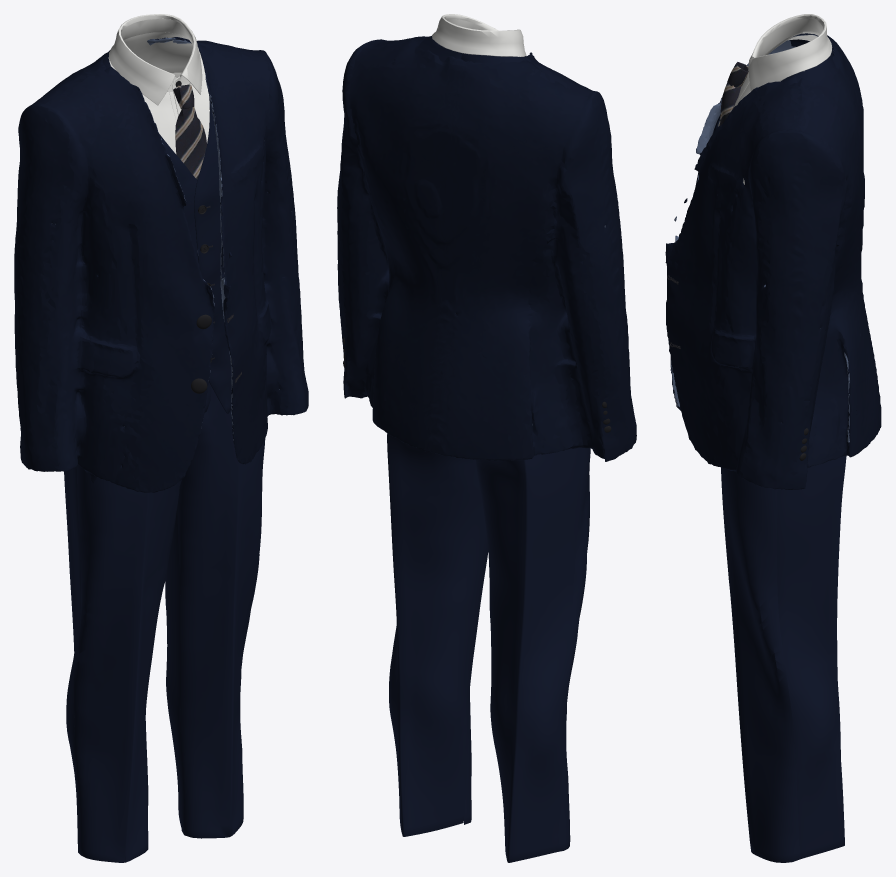
File: MW_Tailleur_suit_v5_REBUILD_BASE.glb
3 renders of one model, left to right at view 1: azimuth 30°, elevation 25°; view 2: azimuth 150°, elevation 25°; view 3: azimuth 270°, elevation 25°, orthographic. The views are drawn at different scales.
Parts seen in each view (by area): view 1: Jacket, Trousers, Shirt, Waistcoat, Tie, Trim; view 2: Jacket, Trousers, Shirt, Waistcoat; view 3: Jacket, Trousers, Shirt, Tie, Waistcoat.
Boxes of the visible parts, x1,y1,x2,y2 form: Jacket: (14,37,308,492); Trousers: (64,382,265,862); Shirt: (108,14,209,154); Waistcoat: (97,41,231,413); Tie: (173,84,206,179); Trim: (20,81,211,428); Jacket: (337,36,636,461); Trousers: (387,433,590,862); Shirt: (432,14,526,56); Waistcoat: (418,36,531,315); Jacket: (665,33,881,489); Trousers: (721,455,846,862); Shirt: (718,14,832,184); Tie: (719,62,748,125); Waistcoat: (712,46,835,209).
Bounding box in the file's own units: 0.5383 × 1.5 × 0.3667.
8 materials, 3 textured.
